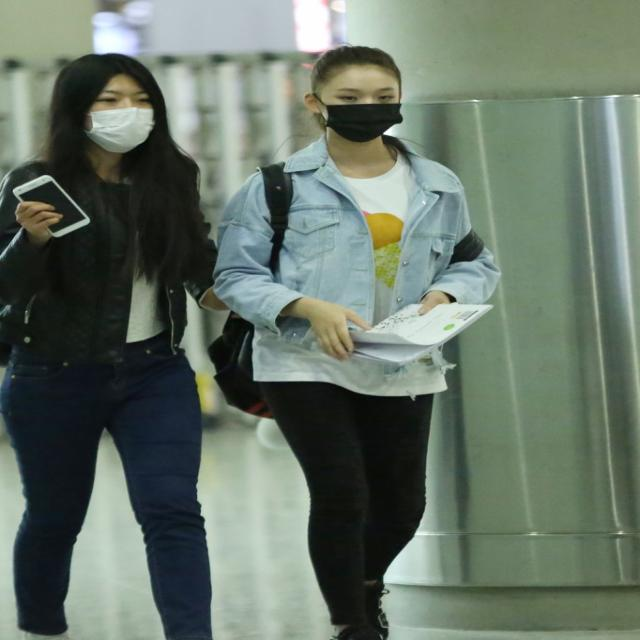mask: (323, 65, 398, 144), (85, 70, 151, 150)
